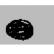correct: (2, 16, 40, 42)
